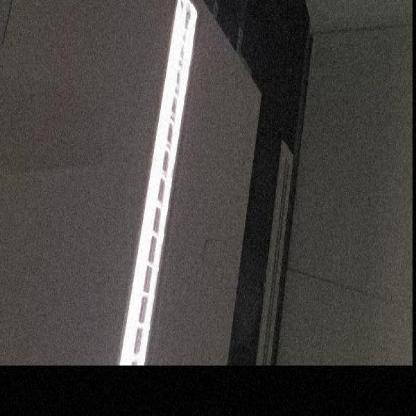light_on: (113, 0, 206, 366)
